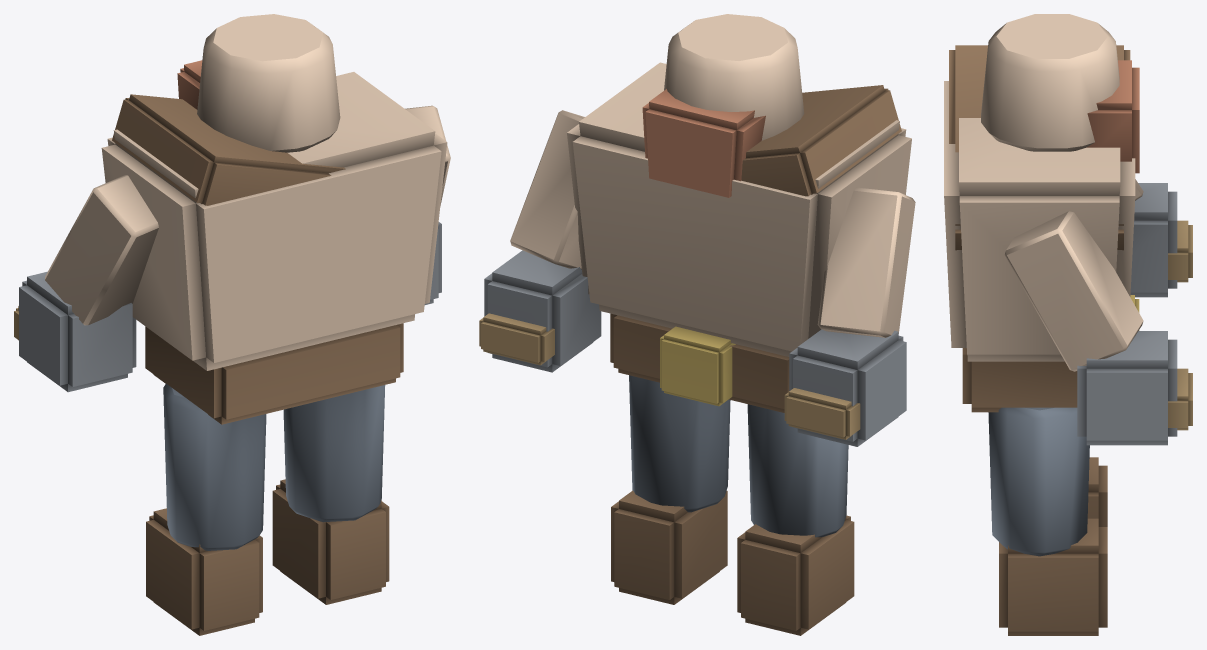
File: formula_giant_lod0.glb
3 views of the same model, side by side, from view 1: azimuth 30°, elevation 25°; view 2: azimuth 150°, elevation 25°; view 3: azimuth 270°, elevation 25° (orthographic).
Visible parts, largest first — view 1: formula_giant; view 2: formula_giant; view 3: formula_giant.
Boxes of the visible parts, x1,y1,x2,y2 form: formula_giant: [14, 14, 450, 635]; formula_giant: [479, 14, 915, 635]; formula_giant: [944, 14, 1192, 635].
Size of the model in its own units: 1.4 by 1.96 by 0.7959.
